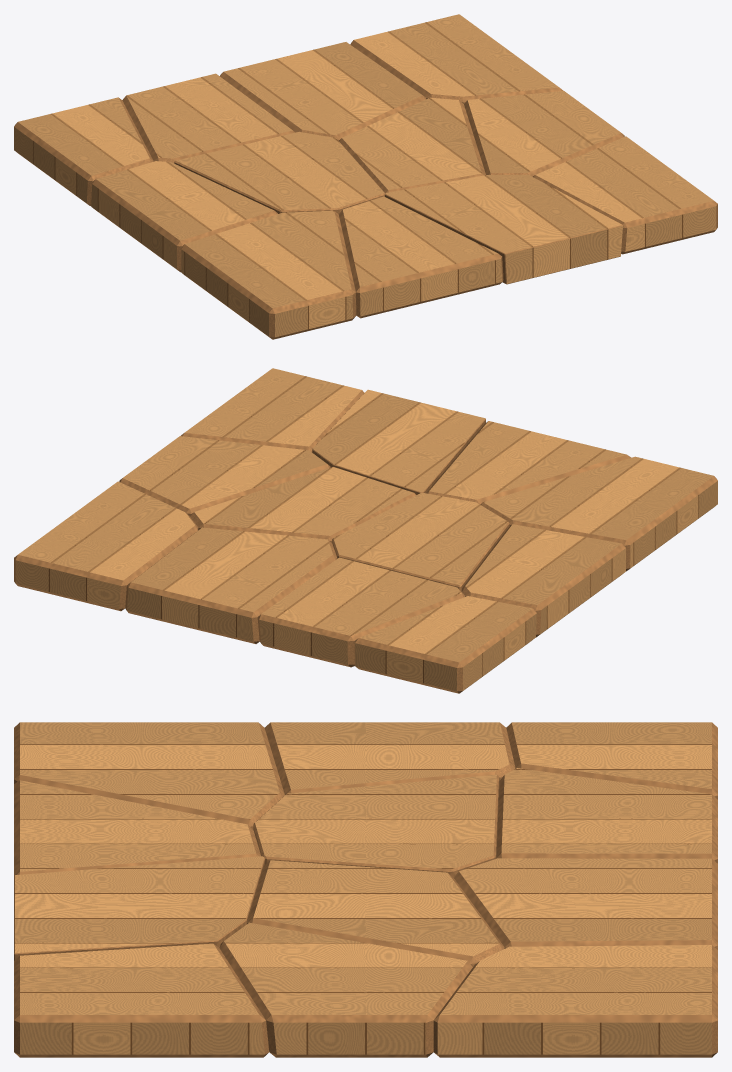
Rendered from Kit_Wood_Floor_Fractured.fbx.
3 views of the same model, one above another, from view 1: azimuth 30°, elevation 25°; view 2: azimuth 150°, elevation 25°; view 3: azimuth 270°, elevation 25° (orthographic). The views are drawn at different scales.
Parts seen in each view (by area): view 1: Kit_Wood_Floor_frag_01, Kit_Wood_Floor_frag_07, Kit_Wood_Floor_frag_04, Kit_Wood_Floor_frag_09, Kit_Wood_Floor_frag_10, Kit_Wood_Floor_frag_05, Kit_Wood_Floor_frag_02, Kit_Wood_Floor_frag_12, Kit_Wood_Floor_frag_11, Kit_Wood_Floor_frag_06, Kit_Wood_Floor_frag_08, Kit_Wood_Floor_frag_03; view 2: Kit_Wood_Floor_frag_09, Kit_Wood_Floor_frag_01, Kit_Wood_Floor_frag_12, Kit_Wood_Floor_frag_06, Kit_Wood_Floor_frag_03, Kit_Wood_Floor_frag_07, Kit_Wood_Floor_frag_05, Kit_Wood_Floor_frag_02, Kit_Wood_Floor_frag_11, Kit_Wood_Floor_frag_08, Kit_Wood_Floor_frag_10, Kit_Wood_Floor_frag_04; view 3: Kit_Wood_Floor_frag_12, Kit_Wood_Floor_frag_10, Kit_Wood_Floor_frag_11, Kit_Wood_Floor_frag_01, Kit_Wood_Floor_frag_09, Kit_Wood_Floor_frag_07, Kit_Wood_Floor_frag_05, Kit_Wood_Floor_frag_08, Kit_Wood_Floor_frag_06, Kit_Wood_Floor_frag_04, Kit_Wood_Floor_frag_02, Kit_Wood_Floor_frag_03.
Boxes of the visible parts, x1,y1,x2,y2 form: Kit_Wood_Floor_frag_01: (181, 210, 356, 339); Kit_Wood_Floor_frag_07: (384, 175, 623, 284); Kit_Wood_Floor_frag_04: (338, 196, 503, 318); Kit_Wood_Floor_frag_09: (220, 42, 426, 140); Kit_Wood_Floor_frag_10: (533, 136, 717, 254); Kit_Wood_Floor_frag_05: (174, 132, 385, 214); Kit_Wood_Floor_frag_02: (91, 161, 277, 272); Kit_Wood_Floor_frag_12: (350, 14, 563, 103); Kit_Wood_Floor_frag_11: (464, 91, 624, 176); Kit_Wood_Floor_frag_06: (122, 73, 294, 163); Kit_Wood_Floor_frag_08: (339, 97, 485, 193); Kit_Wood_Floor_frag_03: (14, 97, 153, 205); Kit_Wood_Floor_frag_09: (125, 527, 336, 643); Kit_Wood_Floor_frag_01: (480, 456, 717, 571); Kit_Wood_Floor_frag_12: (14, 481, 198, 611); Kit_Wood_Floor_frag_06: (257, 557, 465, 667); Kit_Wood_Floor_frag_03: (354, 596, 536, 693); Kit_Wood_Floor_frag_07: (312, 389, 485, 494); Kit_Wood_Floor_frag_05: (332, 493, 509, 591); Kit_Wood_Floor_frag_02: (461, 524, 625, 637); Kit_Wood_Floor_frag_11: (119, 436, 330, 516); Kit_Wood_Floor_frag_08: (190, 467, 416, 542); Kit_Wood_Floor_frag_10: (181, 368, 364, 452); Kit_Wood_Floor_frag_04: (426, 421, 631, 504); Kit_Wood_Floor_frag_12: (433, 945, 717, 1057); Kit_Wood_Floor_frag_10: (14, 943, 269, 1057); Kit_Wood_Floor_frag_11: (219, 922, 472, 1057); Kit_Wood_Floor_frag_01: (14, 722, 284, 829); Kit_Wood_Floor_frag_09: (454, 858, 717, 949); Kit_Wood_Floor_frag_07: (14, 856, 265, 960); Kit_Wood_Floor_frag_05: (253, 774, 499, 877); Kit_Wood_Floor_frag_08: (247, 860, 504, 966); Kit_Wood_Floor_frag_06: (496, 768, 717, 863); Kit_Wood_Floor_frag_04: (14, 780, 260, 875); Kit_Wood_Floor_frag_02: (264, 722, 515, 794); Kit_Wood_Floor_frag_03: (506, 722, 717, 799).
Size of what is drawn, in the model's own units: 3 by 0.2 by 3.
2 materials, 2 textured.
